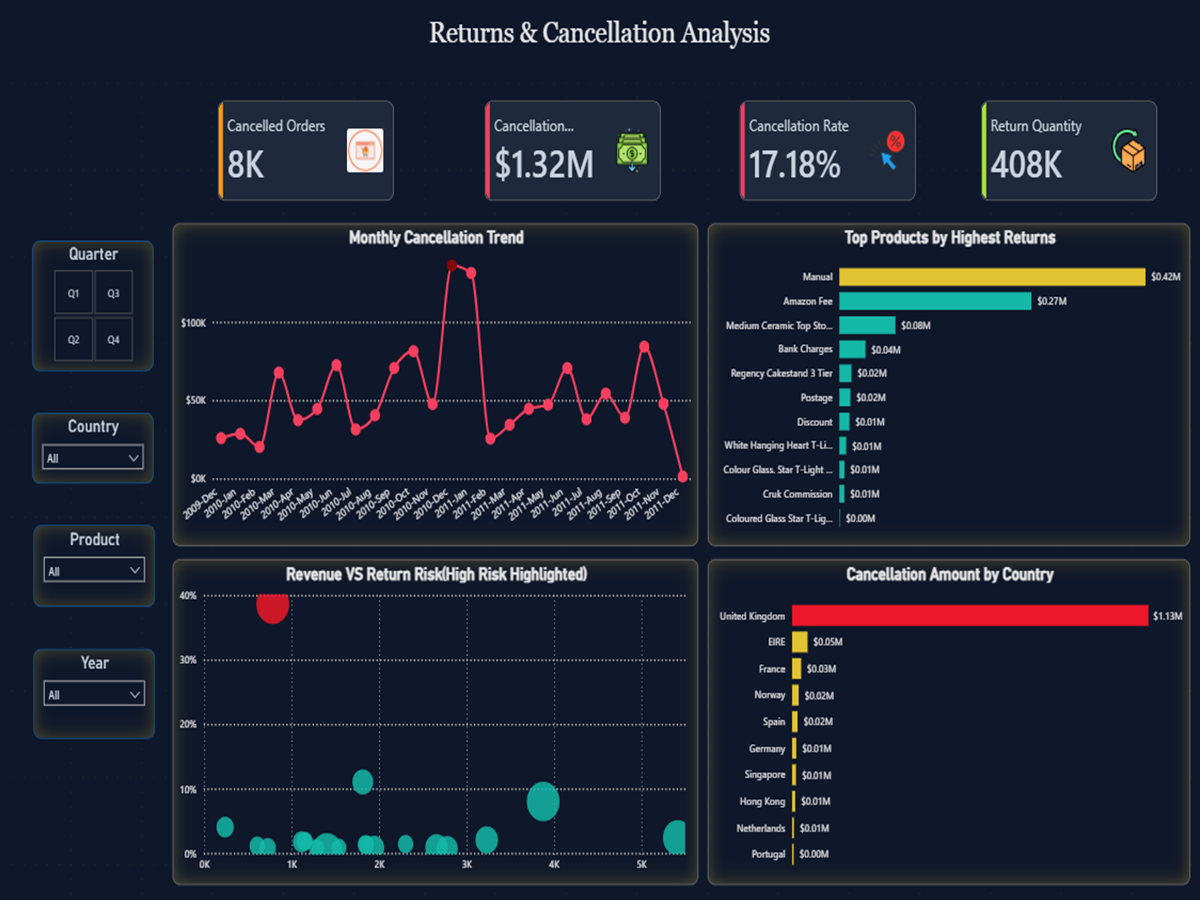

What the dashboard file says about the page in this screenshot:
{"tool":"powerbi","page":{"name":"Cancellations","canvas":[1600,1000],"ordinal":3},"visuals":[{"type":"lineChart","title":"Monthly Cancellation Trend","fields":{"Category":["Date Table.Year-Month"],"Y":["online_retail_II.Cancellation Amount"]},"box":[231.1,252.4,700.4,357.3],"z":0},{"type":"barChart","title":"Top Products by Highest Returns","fields":{"Y":["online_retail_II.Cancellation Amount"],"Category":["online_retail_II.Description"]},"box":[944,252.4,643.6,357.3],"z":1000},{"type":"clusteredBarChart","fields":{"Category":["online_retail_II.Country"],"Y":["online_retail_II.Cancellation Amount"]},"box":[944,624,643.6,360.9],"z":2000},{"type":"scatterChart","title":"Revenue VS Return Risk(High Risk Highlighted)","fields":{"X":["online_retail_II.Total Orders"],"Y":["online_retail_II.Cancellation Rate"],"Category":["online_retail_II.Description"],"Size":["online_retail_II.Total Revenue"]},"box":[231.1,624,700.4,360.9],"z":3000},{"type":"cardVisual","fields":{"Data":["online_retail_II.Cancelled Orders"]},"box":[291.6,117.3,234.7,110.2],"z":4000},{"type":"cardVisual","fields":{"Data":["online_retail_II.Cancellation Amount"]},"box":[647.1,117.3,234.7,110.2],"z":5000},{"type":"cardVisual","fields":{"Data":["online_retail_II.Cancellation Rate"]},"box":[986.7,117.3,234.7,110.2],"z":6000},{"type":"cardVisual","fields":{"Data":["online_retail_II.Return Quantity"]},"box":[1308.4,117.3,234.7,110.2],"z":7000},{"type":"slicer","title":"Quarter","fields":{"Values":["Date Table.Quarter"]},"box":[44.4,272,161.8,144],"z":8000},{"type":"slicer","title":"Country","fields":{"Values":["DimCountry.Country"]},"box":[44.4,462.2,161.8,78.2],"z":9000},{"type":"slicer","title":"Product","fields":{"Values":["online_retail_II.Description"]},"box":[46.2,586.7,161.8,90.7],"z":10000},{"type":"slicer","title":"Year","fields":{"Values":["Date Table.Year"]},"box":[46.2,723.6,161.8,99.6],"z":11000},{"type":"textbox","box":[0,0,1600,96],"z":12000}]}

Visuals, with their boxes on the page's 1600x1000 design canvas (x1, y1, x2, y2). These are canvas units, not pixel positions in the 1200x900 screenshot, which may show the page scaled, cropped or inside an application window:
"Monthly Cancellation Trend" lineChart: 231, 252, 932, 610
"Top Products by Highest Returns" barChart: 944, 252, 1588, 610
clusteredBarChart - online_retail_II.Country x online_retail_II.Cancellation Amount: 944, 624, 1588, 985
"Revenue VS Return Risk(High Risk Highlighted)" scatterChart: 231, 624, 932, 985
cardVisual - online_retail_II.Cancelled Orders: 292, 117, 526, 228
cardVisual - online_retail_II.Cancellation Amount: 647, 117, 882, 228
cardVisual - online_retail_II.Cancellation Rate: 987, 117, 1221, 228
cardVisual - online_retail_II.Return Quantity: 1308, 117, 1543, 228
"Quarter" slicer: 44, 272, 206, 416
"Country" slicer: 44, 462, 206, 540
"Product" slicer: 46, 587, 208, 677
"Year" slicer: 46, 724, 208, 823
textbox: 0, 0, 1600, 96
